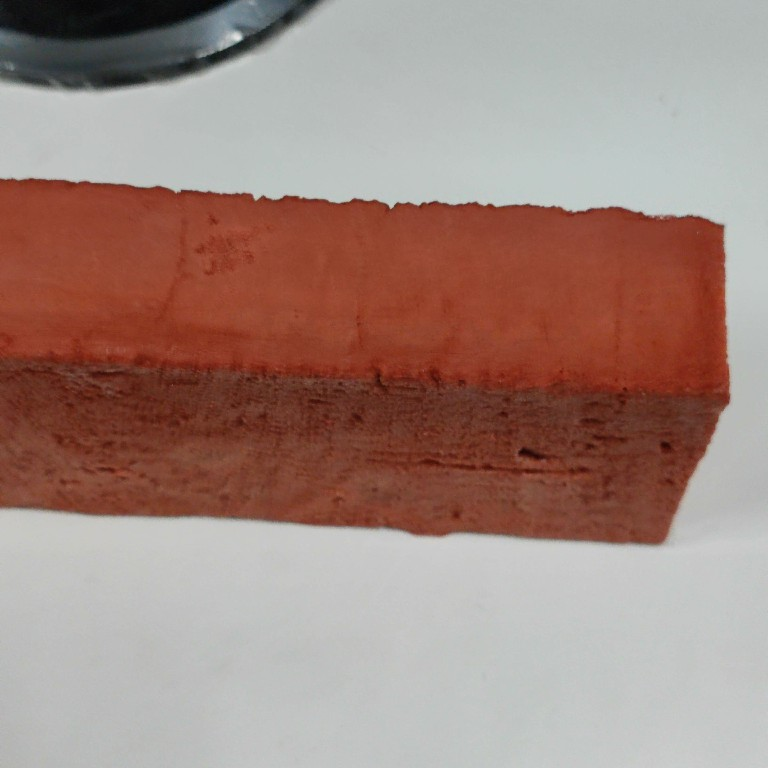brick: (1, 170, 735, 552)
